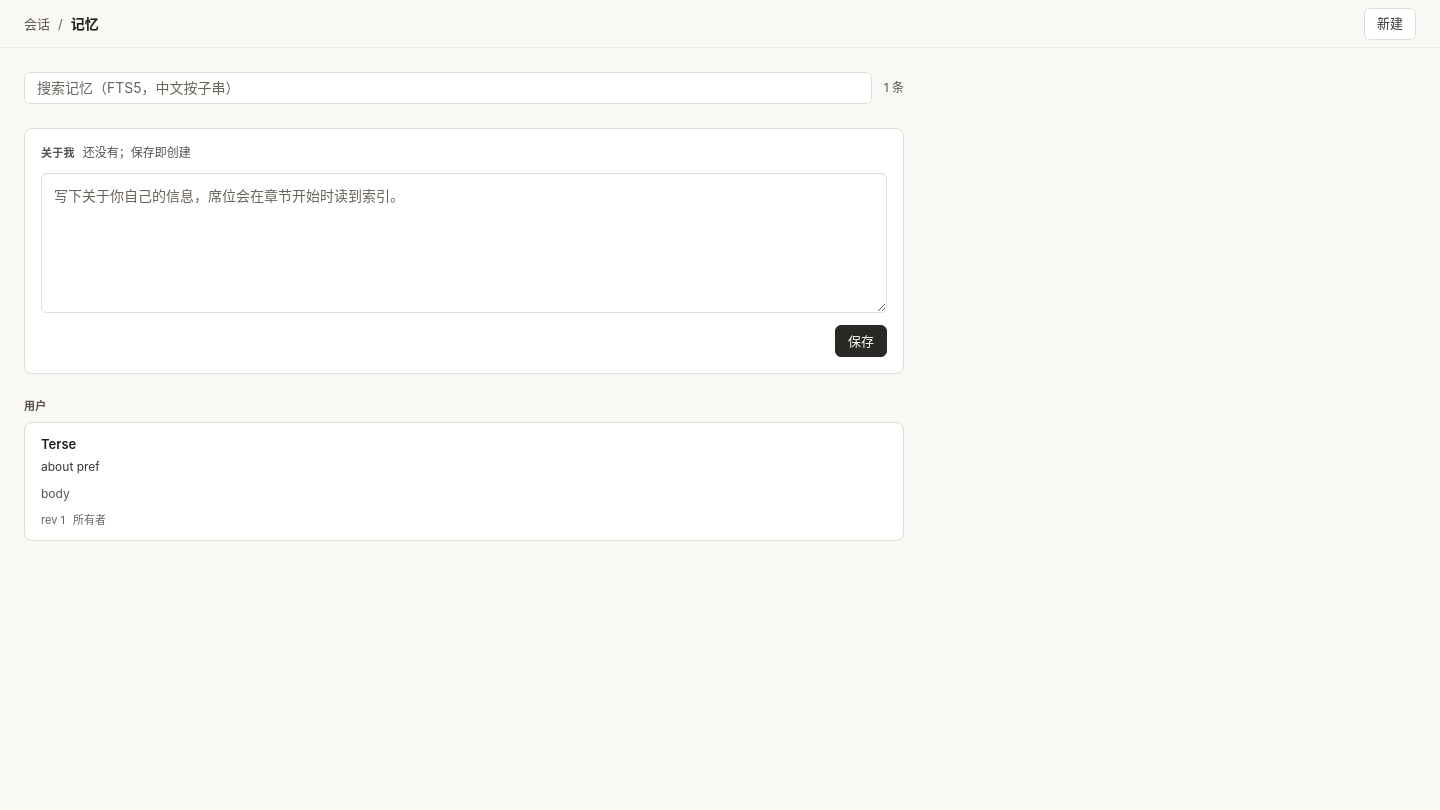
Test case: a delete whose revision went stale › reloads and reopens the editor at the fresh revision
Step 1. Click the button with test id "memory-row" → (59, 444), box [41,436,106,527]
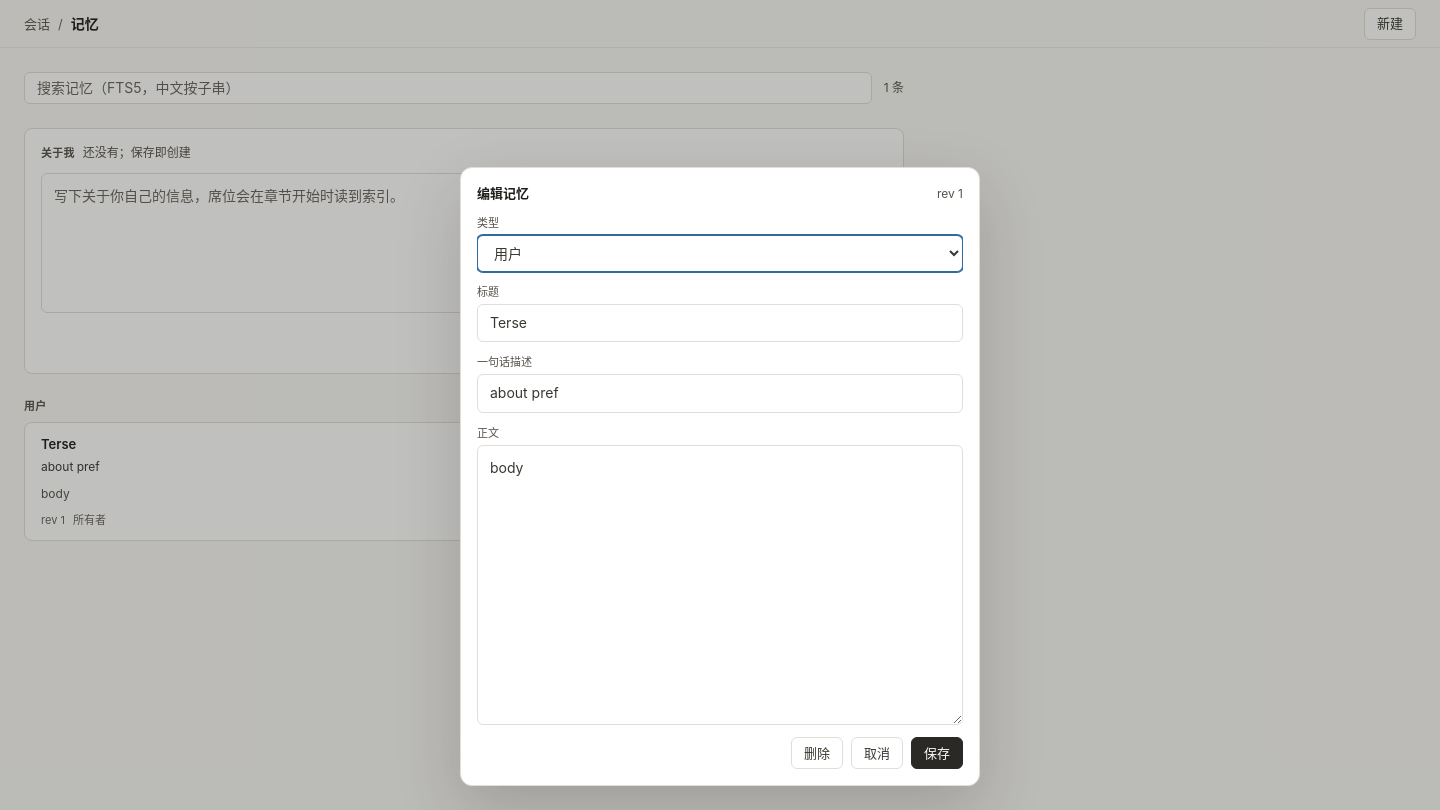
Step 2. Click the button with test id "memory-editor-delete" → (817, 753), box [791,737,843,769]
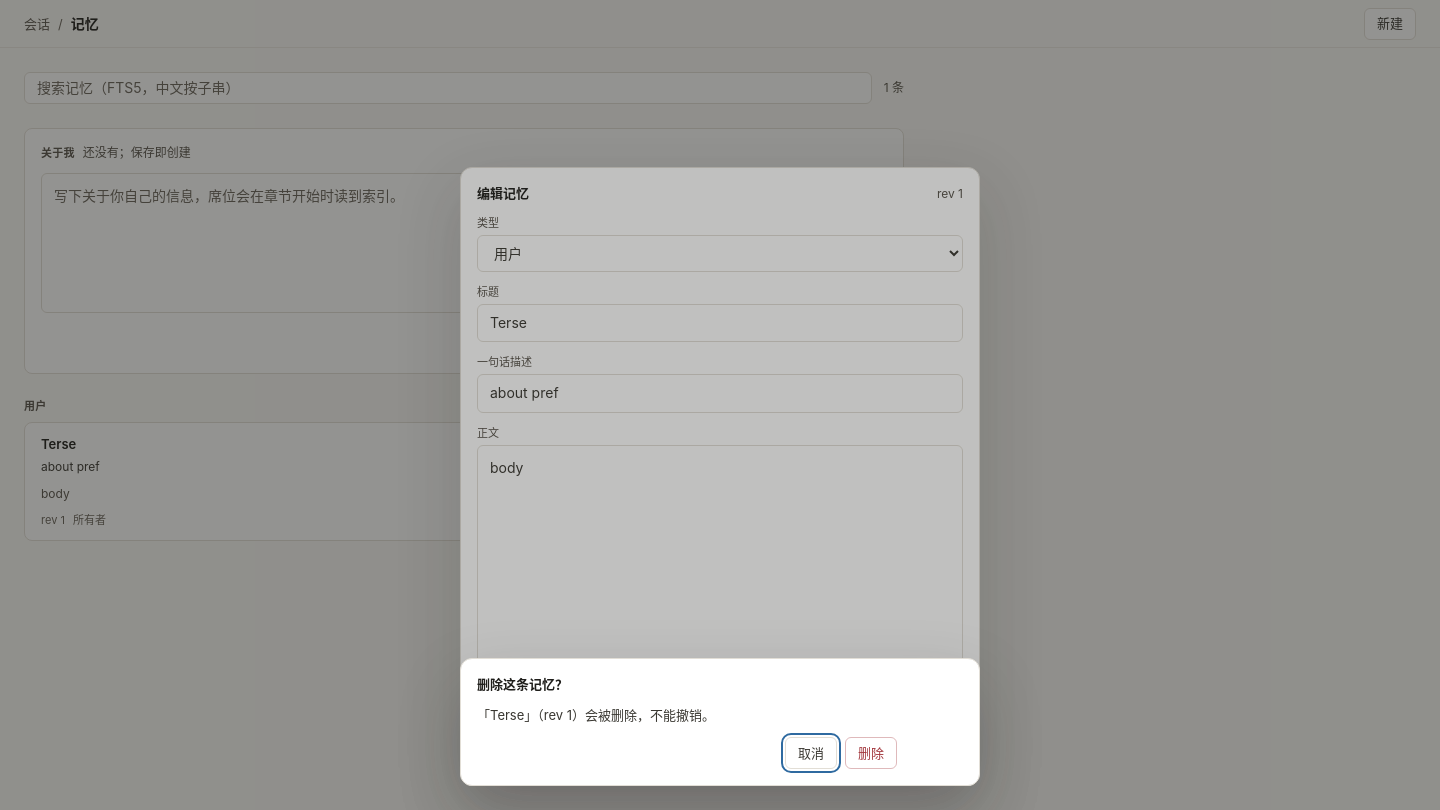
Step 3. Click the button with test id "memory-delete-confirm-yes" → (871, 753), box [845,737,897,769]
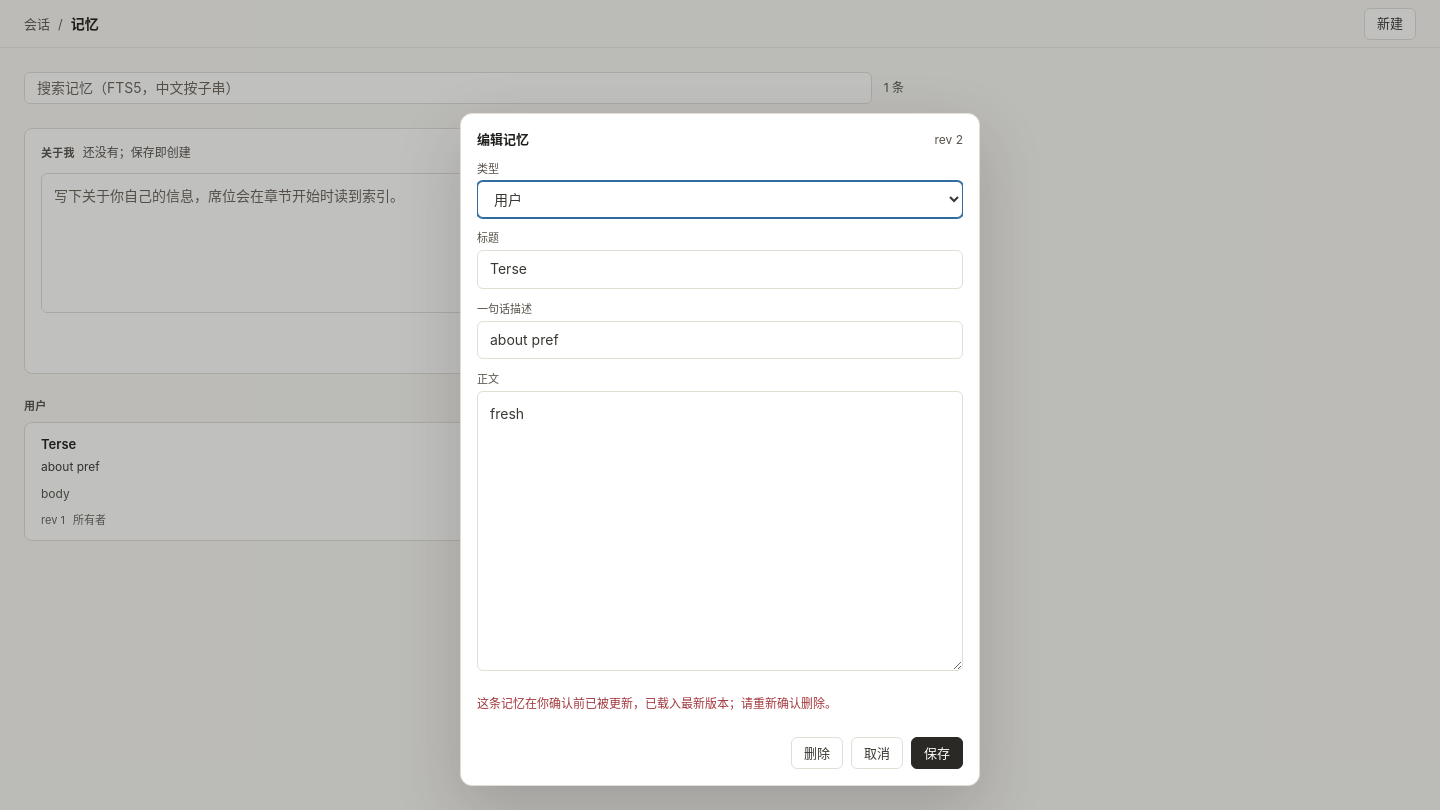
Expected: the message with test id "memory-editor-error" shows "已被更新", [477,696,837,712]
Expected: the text "rev 2" is shown, [934,132,963,148]
